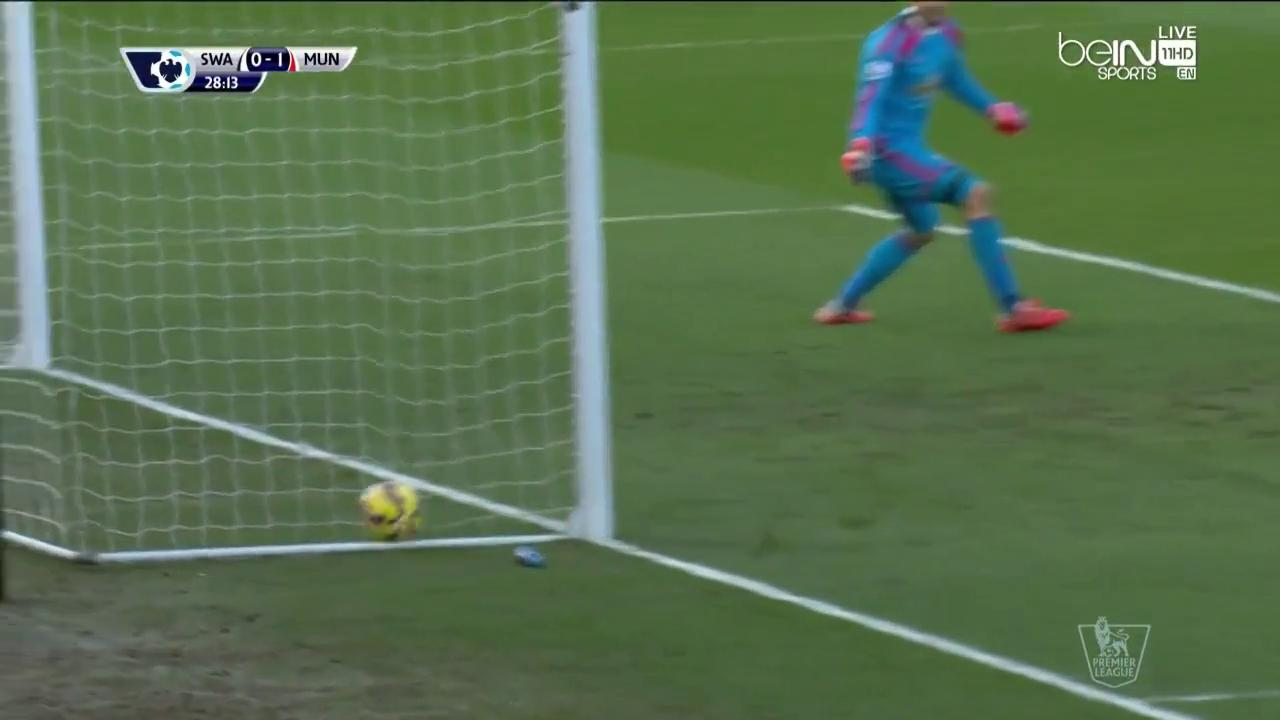football: (359, 483, 420, 542)
